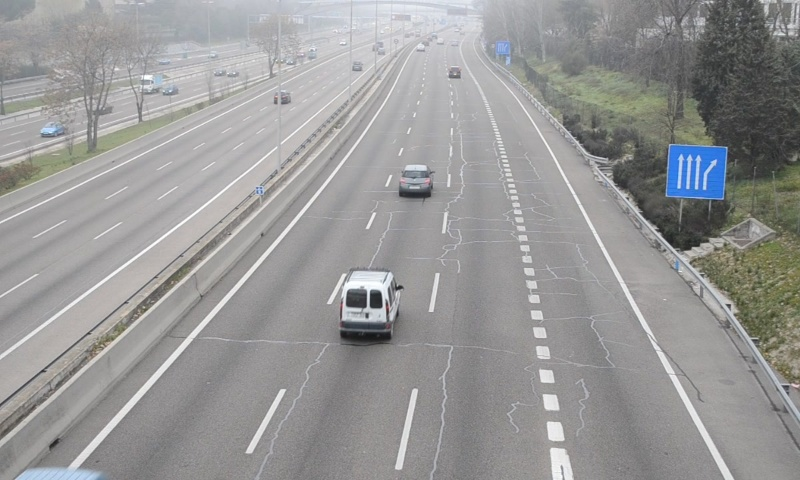car: (398, 164, 433, 193)
van: (338, 270, 399, 340)
